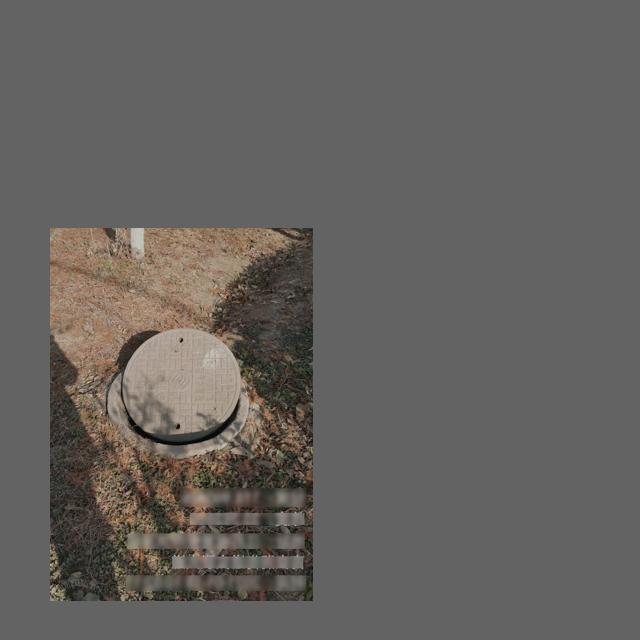uncovered: (116, 326, 246, 443)
